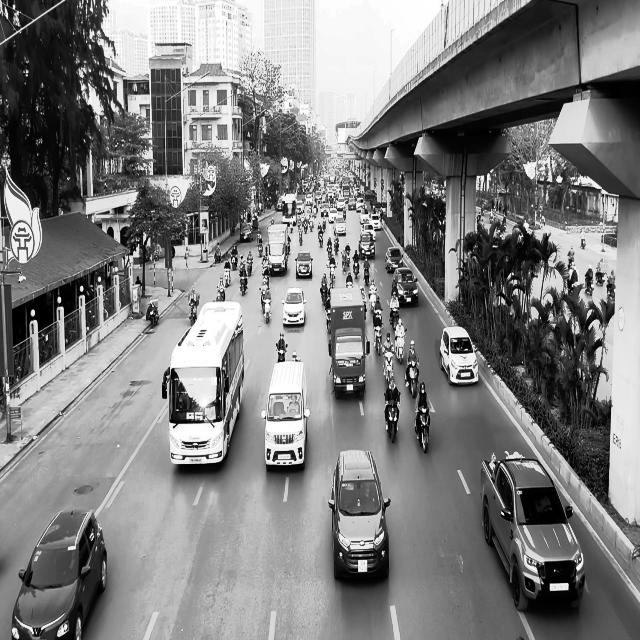bus: (162, 300, 245, 466)
car: (480, 451, 585, 612), (11, 508, 107, 639), (328, 448, 391, 580), (260, 360, 310, 471), (439, 325, 479, 386), (391, 267, 418, 305), (281, 287, 307, 326), (294, 251, 312, 278), (385, 246, 403, 272)
motorbike: (384, 392, 400, 442), (414, 405, 430, 453), (188, 298, 198, 327), (148, 300, 159, 326), (275, 341, 287, 362), (584, 274, 594, 295)
truck: (328, 286, 370, 398)
